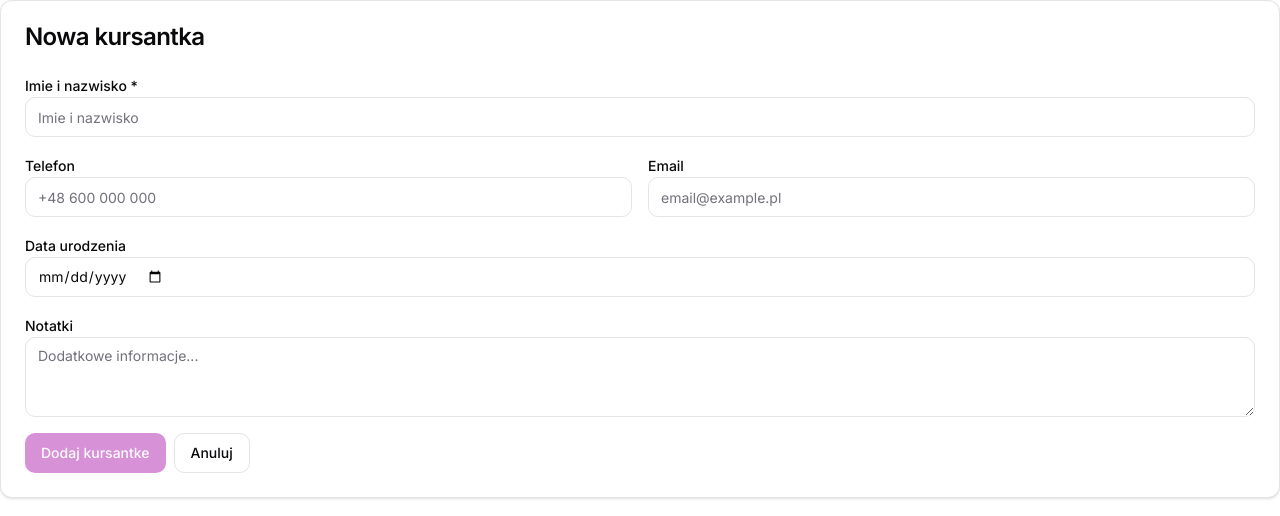
StudentForm › disables submit button while saving
The image size is (1280, 516).
Type "Test" into the field labelled "Imie i nazwisko *" at (640,117), box x1=25 y1=97 x2=1255 y2=137
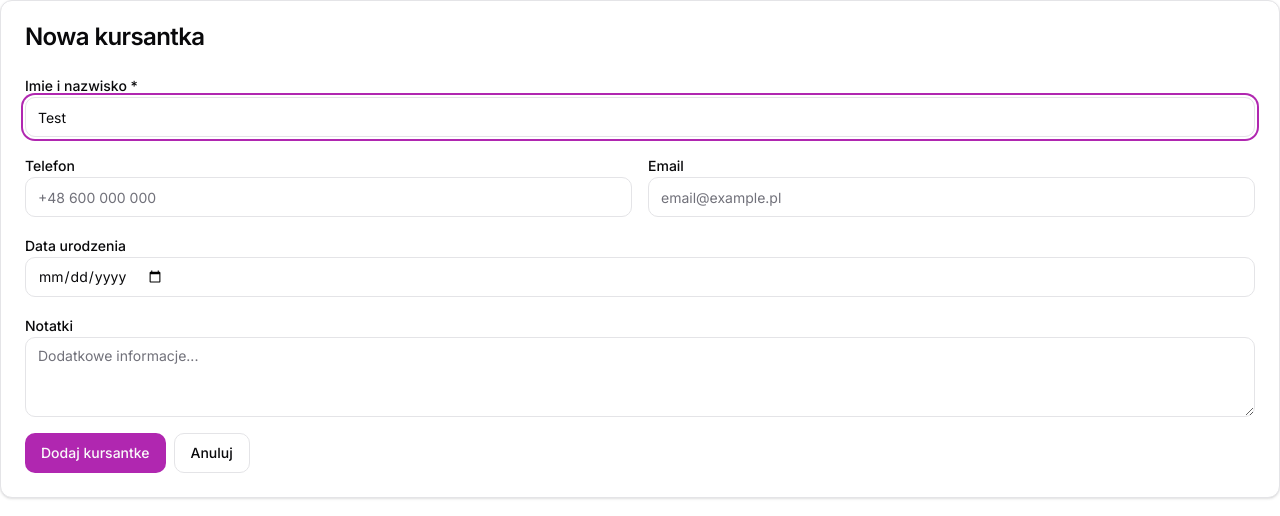
Result: the button "Dodaj kursantke" is enabled at x1=25 y1=433 x2=166 y2=473
